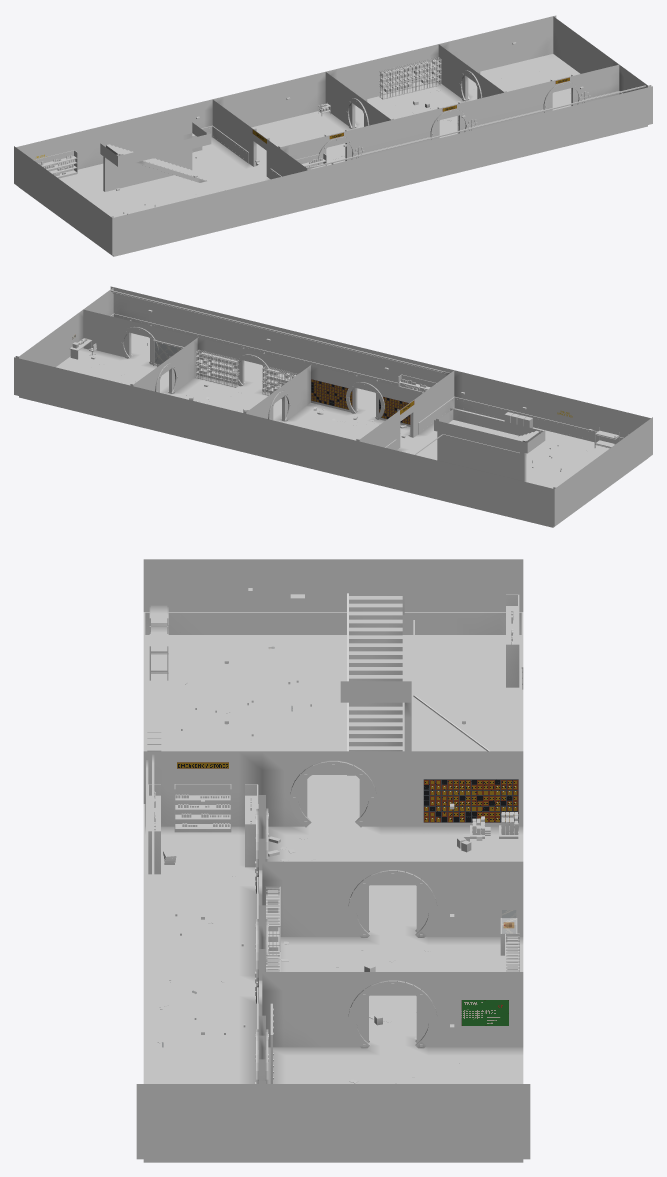
File: th_vault.glb
The picture shows the model from 3 angles, top to bottom: view 1: azimuth 30°, elevation 25°; view 2: azimuth 150°, elevation 25°; view 3: azimuth 270°, elevation 25°; orthographic projection. The views are drawn at different scales.
Visible parts, largest first — view 1: th_vault; view 2: th_vault; view 3: th_vault.
Boxes of the visible parts, bbox=[...] form: th_vault: bbox=[14, 15, 652, 256]; th_vault: bbox=[14, 286, 652, 527]; th_vault: bbox=[136, 559, 530, 1162].
Bounding box in the file's own units: 52.6 × 4.81 × 16.6.
4 materials, 3 textured.
